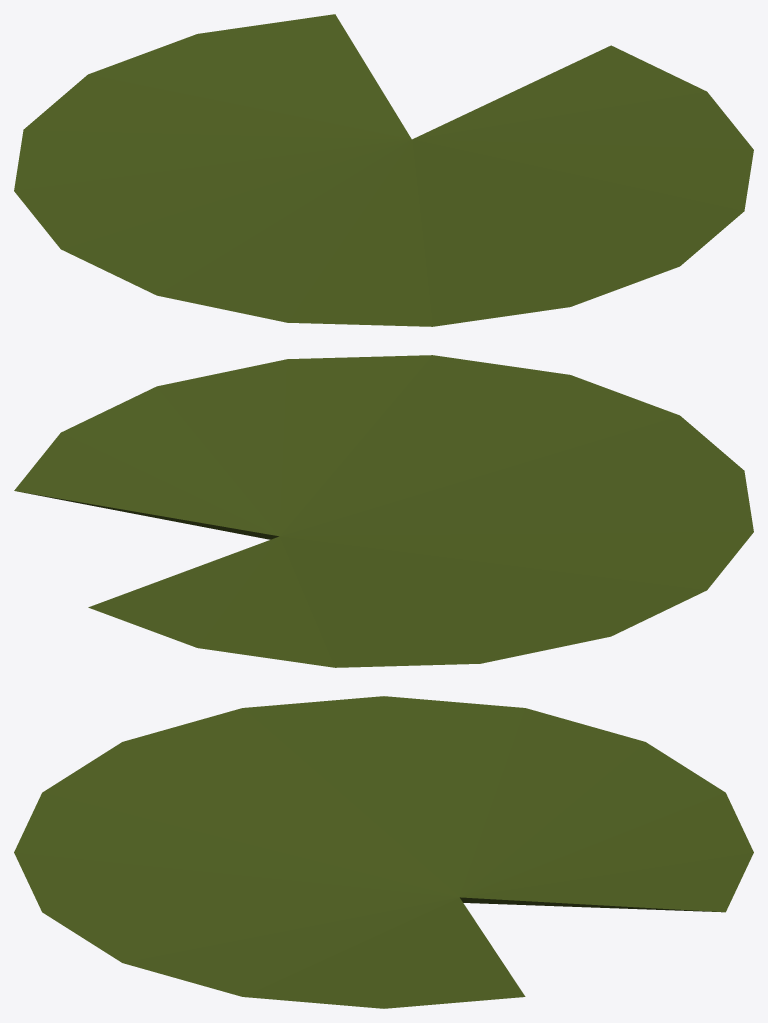
Rendered from Nenuphard 1.fbx.
3 views of the same model, one above another, from view 1: azimuth 30°, elevation 25°; view 2: azimuth 150°, elevation 25°; view 3: azimuth 270°, elevation 25° (orthographic).
Parts seen in each view (by area): view 1: Circle.002; view 2: Circle.002; view 3: Circle.002.
Part boxes in pixels (<box>): Circle.002: <box>14,14,753,326</box>; Circle.002: <box>14,355,753,667</box>; Circle.002: <box>14,696,753,1008</box>.
Bounding box in the file's own units: 218 × 6.51 × 218.
